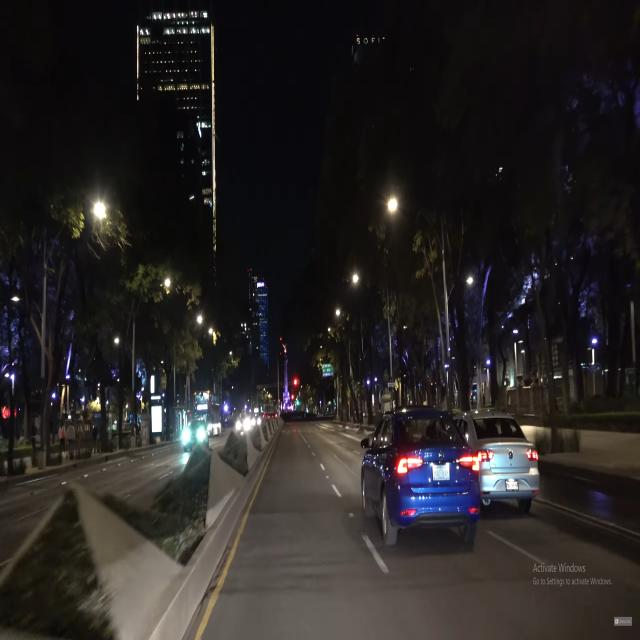headlights: (178, 423, 208, 448)
